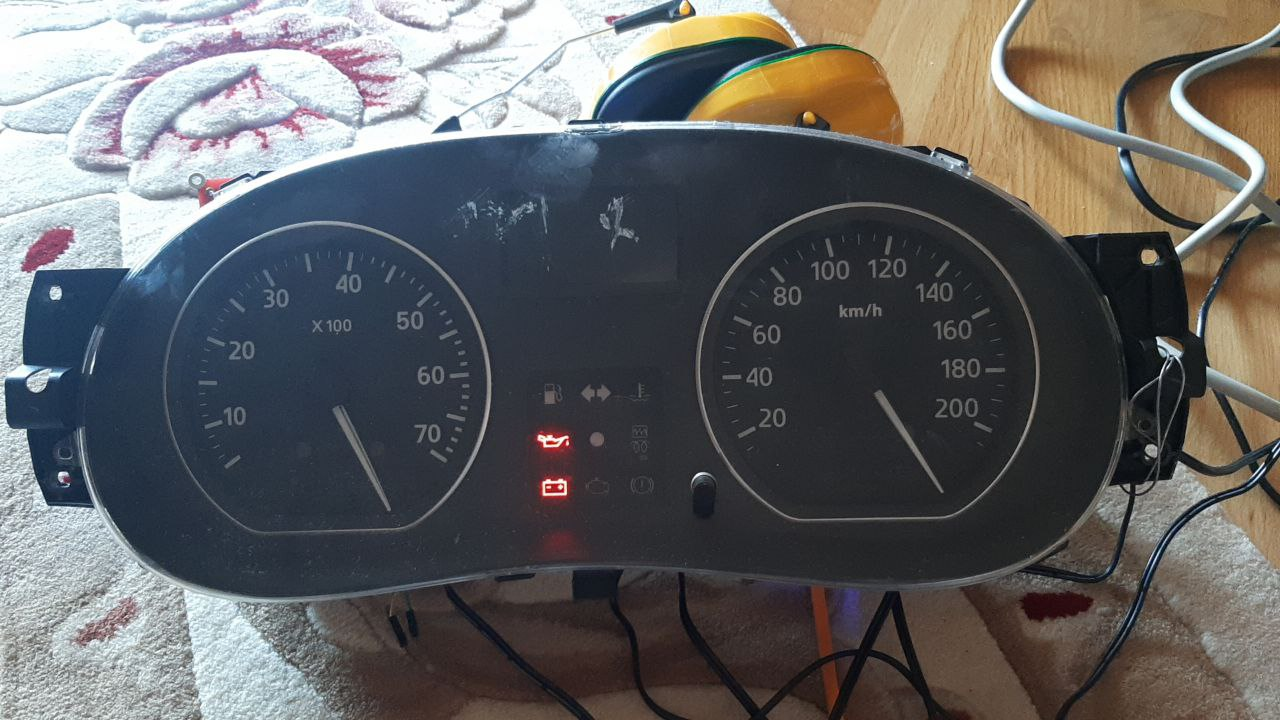accumulator: (537, 478, 575, 501)
oil: (532, 429, 574, 454)
